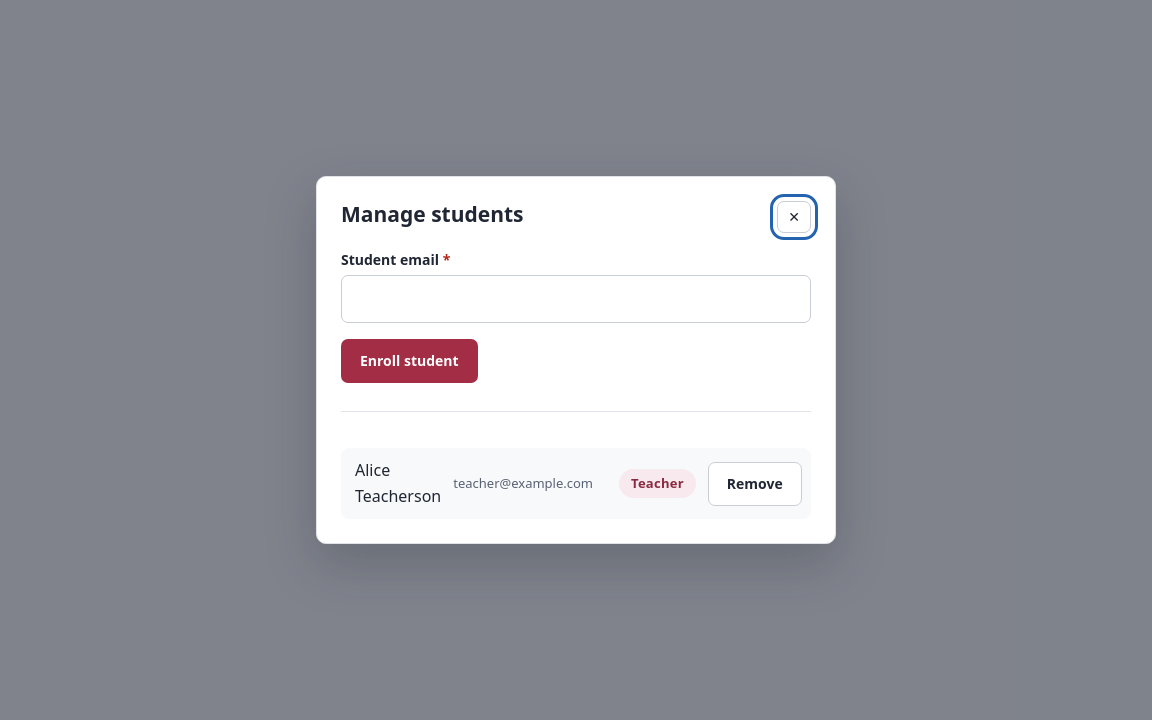
ManageEnrollmentsModal › enrolls a student by email and refreshes the roster
The width and height of the screenshot is (1152, 720).
expect the text "teacher@example.com" is shown: met, box [453,474,593,494]
In the field labelled "Student email *": (576, 299) [341,275,811,323], type "student@example.com"
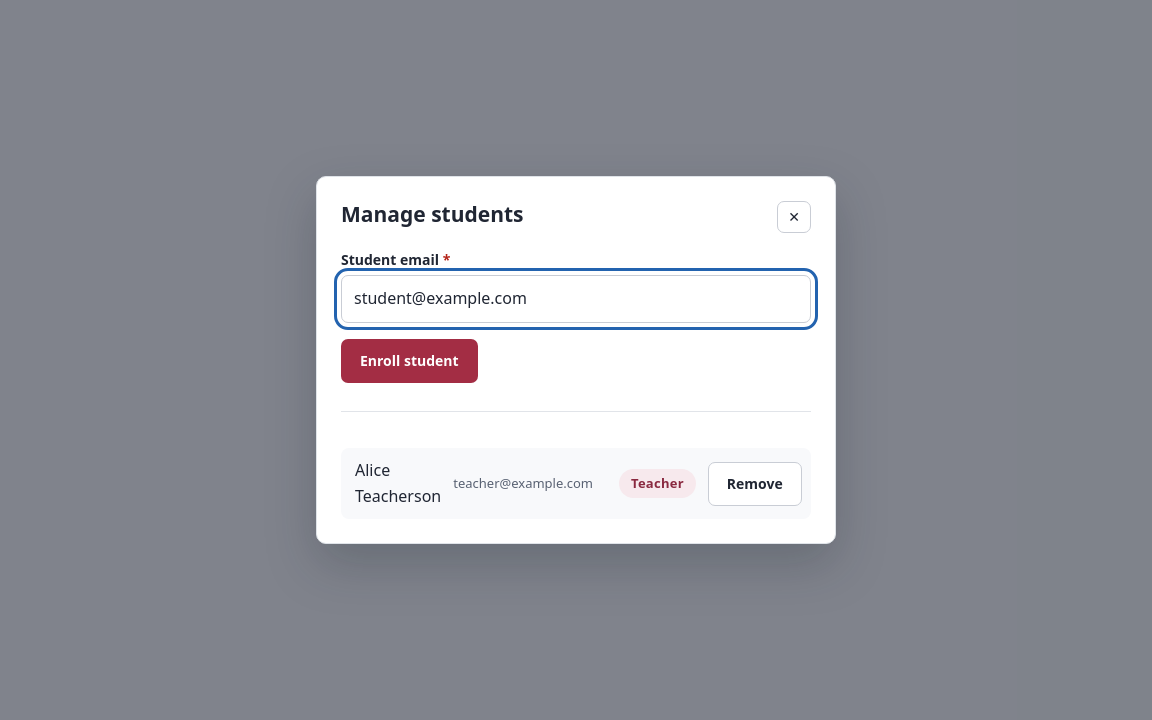
Click the button "Enroll student": (409, 361) [341,339,478,383]
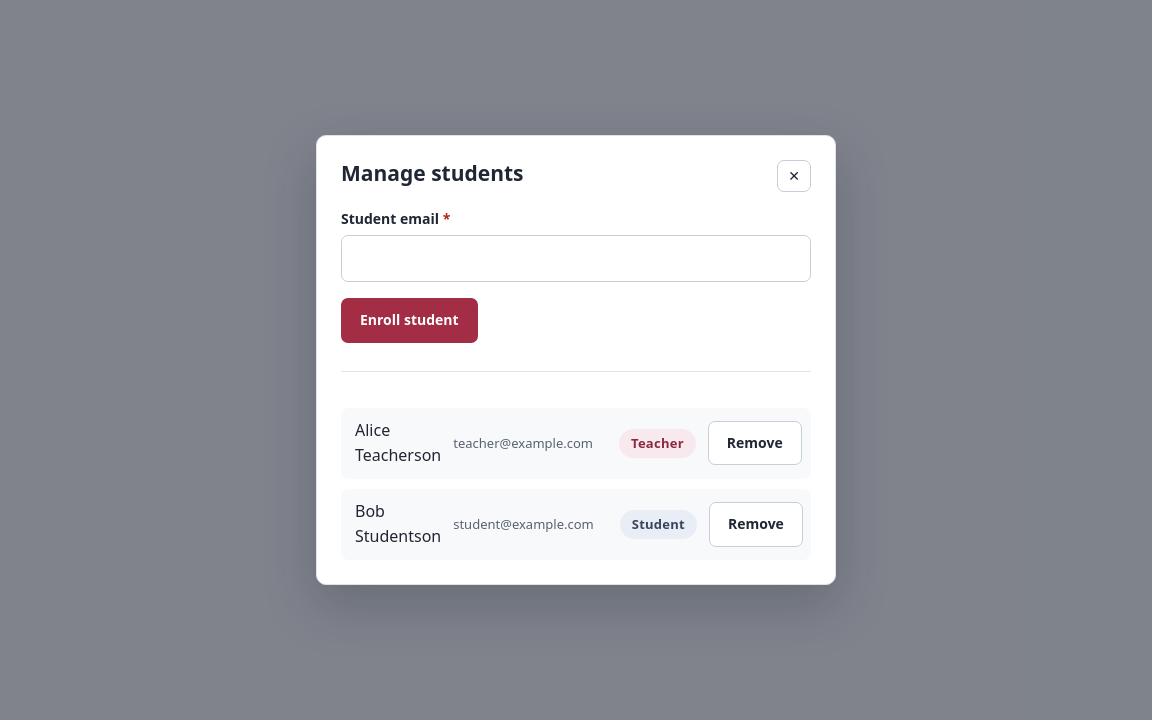
expect the text "student@example.com" is shown: met, box [453,514,594,535]
